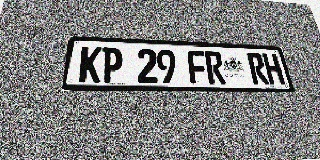2: (138, 48, 158, 83)
9: (157, 49, 177, 84)
F: (187, 50, 208, 84)
H: (262, 53, 285, 85)
K: (78, 46, 102, 83)
P: (101, 47, 122, 83)
R: (246, 53, 269, 85), (204, 51, 226, 84)
